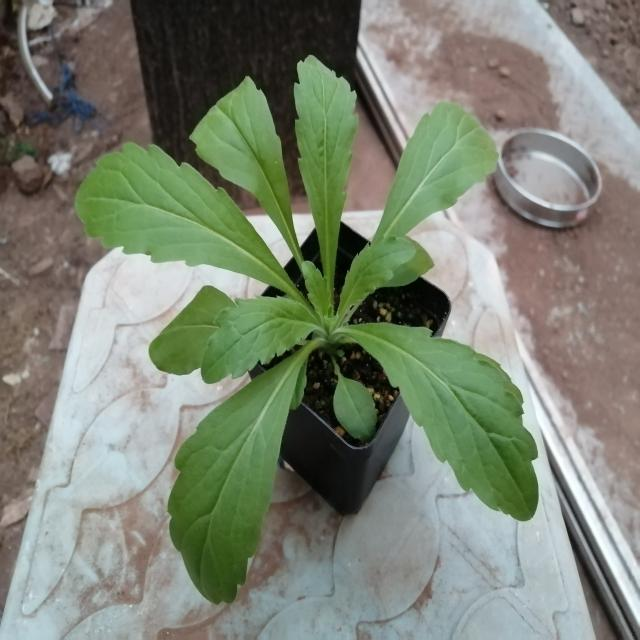horseweed: (101, 78, 523, 513)
